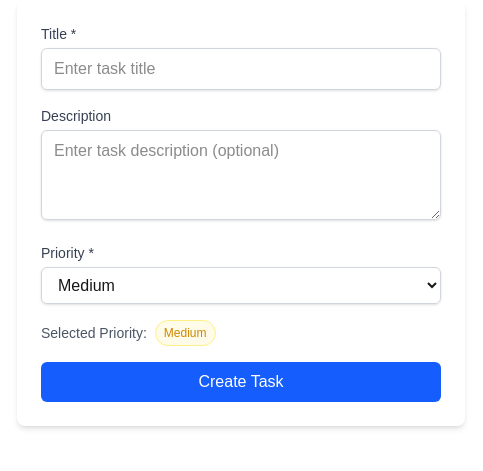
TaskForm › validates title minimum length
This screenshot has width=483, height=471.
Type "ab" into the field labelled "Title *" at x=241, y=69, box [41,48,441,90]
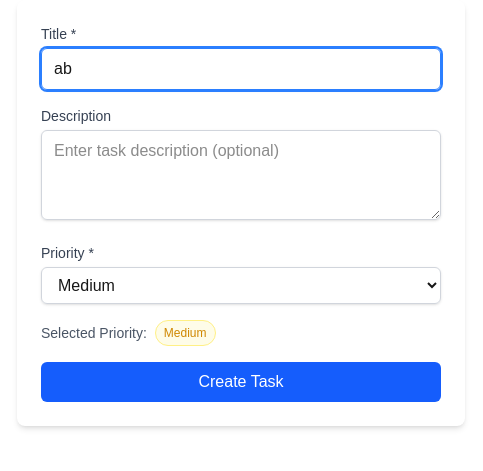
Click the button "Create Task" at x=241, y=382, box [41,362,441,402]
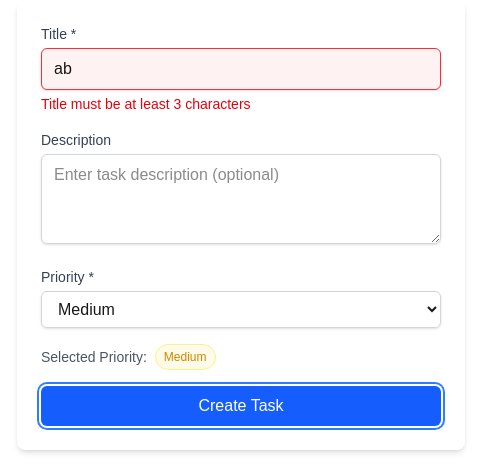
expect the text "Title must be at least 3 characters" is shown: met, box [41,96,251,112]
